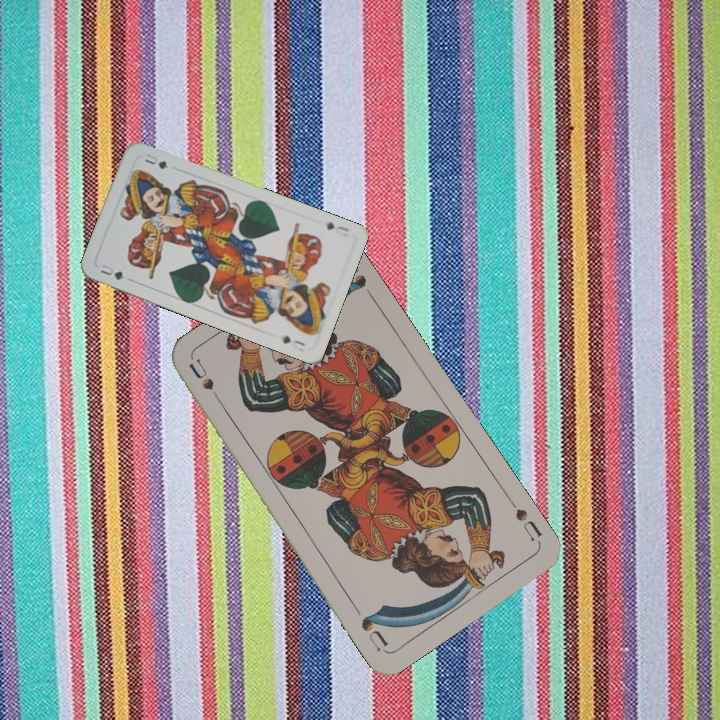GU: (96, 261, 127, 283), (322, 218, 352, 234)
SU: (185, 356, 227, 410), (511, 504, 545, 544)
